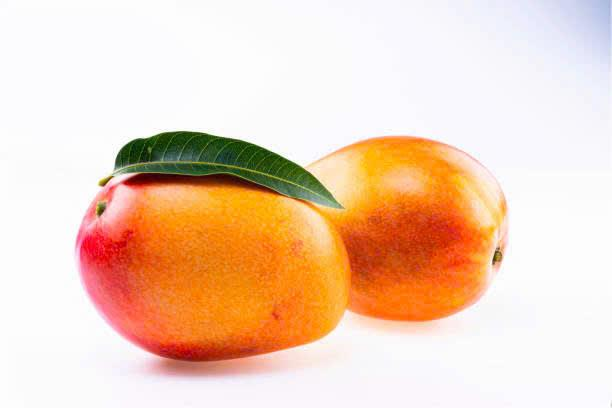mango: (45, 145, 353, 366), (322, 129, 531, 334)
